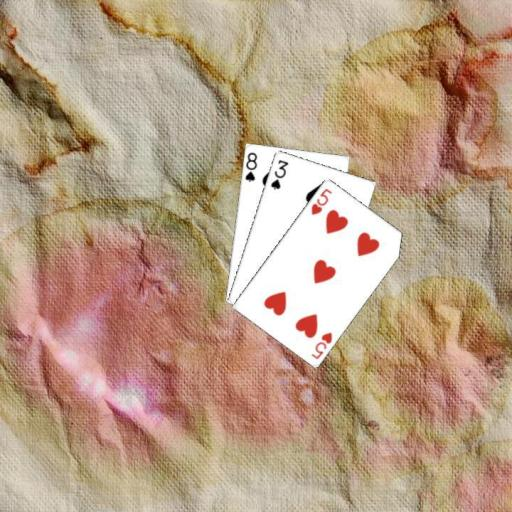3S: (268, 157, 290, 191)
5H: (308, 329, 333, 361), (308, 185, 333, 216)
8S: (242, 149, 258, 184)
